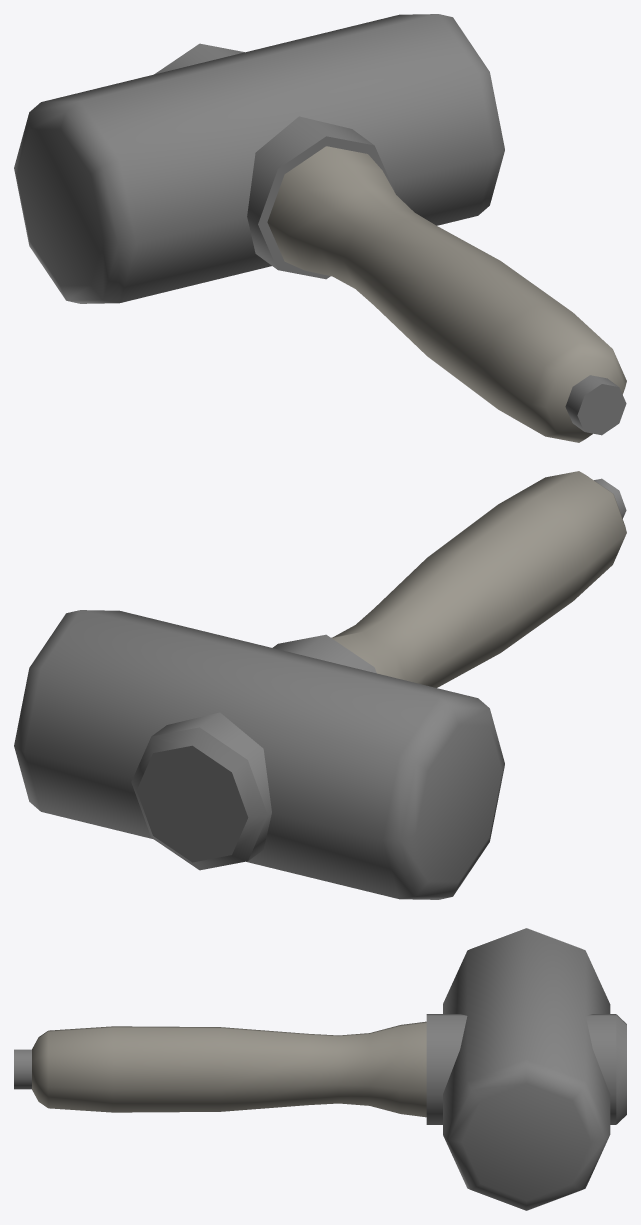
File: tool-1.fbx
3 views of the same model, one above another, from view 1: azimuth 30°, elevation 25°; view 2: azimuth 150°, elevation 25°; view 3: azimuth 270°, elevation 25° (orthographic). The views are drawn at different scales.
Visible parts, largest first — view 1: tool-1; view 2: tool-1; view 3: tool-1.
Boxes of the visible parts, <box> form: tool-1: <box>14,14,626,442</box>; tool-1: <box>14,471,626,899</box>; tool-1: <box>14,928,626,1210</box>.
Bounding box in the file's own units: 11.47 × 5.57 × 20.4.
Materials: 3 (3 with a texture image).
